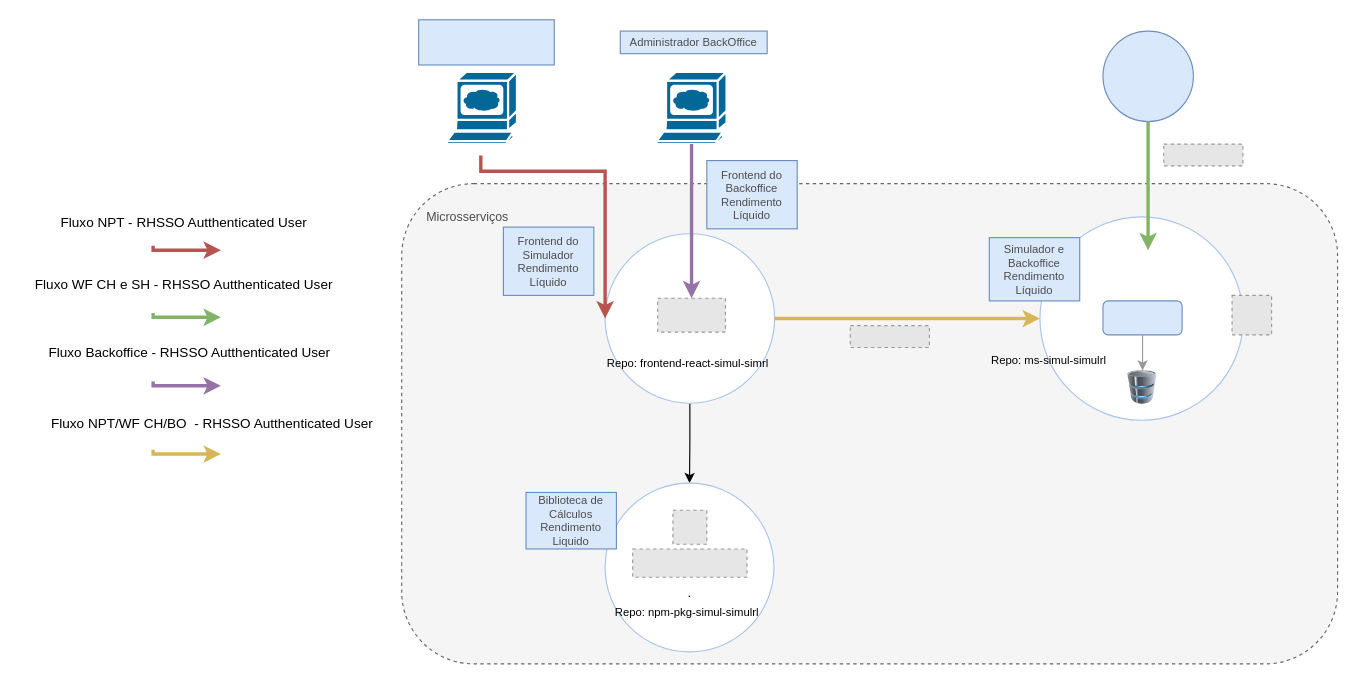
Image size: 1357x684. Some labels were removed from this diagram. Grey dashed boxes stand in for pictures. Each missing label, with the centre of its shape:
"Balcões Novo Banco (NPT)" goes at (x=486, y=42).
"Java" goes at (x=1142, y=317).
"Workflow CH e SH" goes at (x=1147, y=75).
